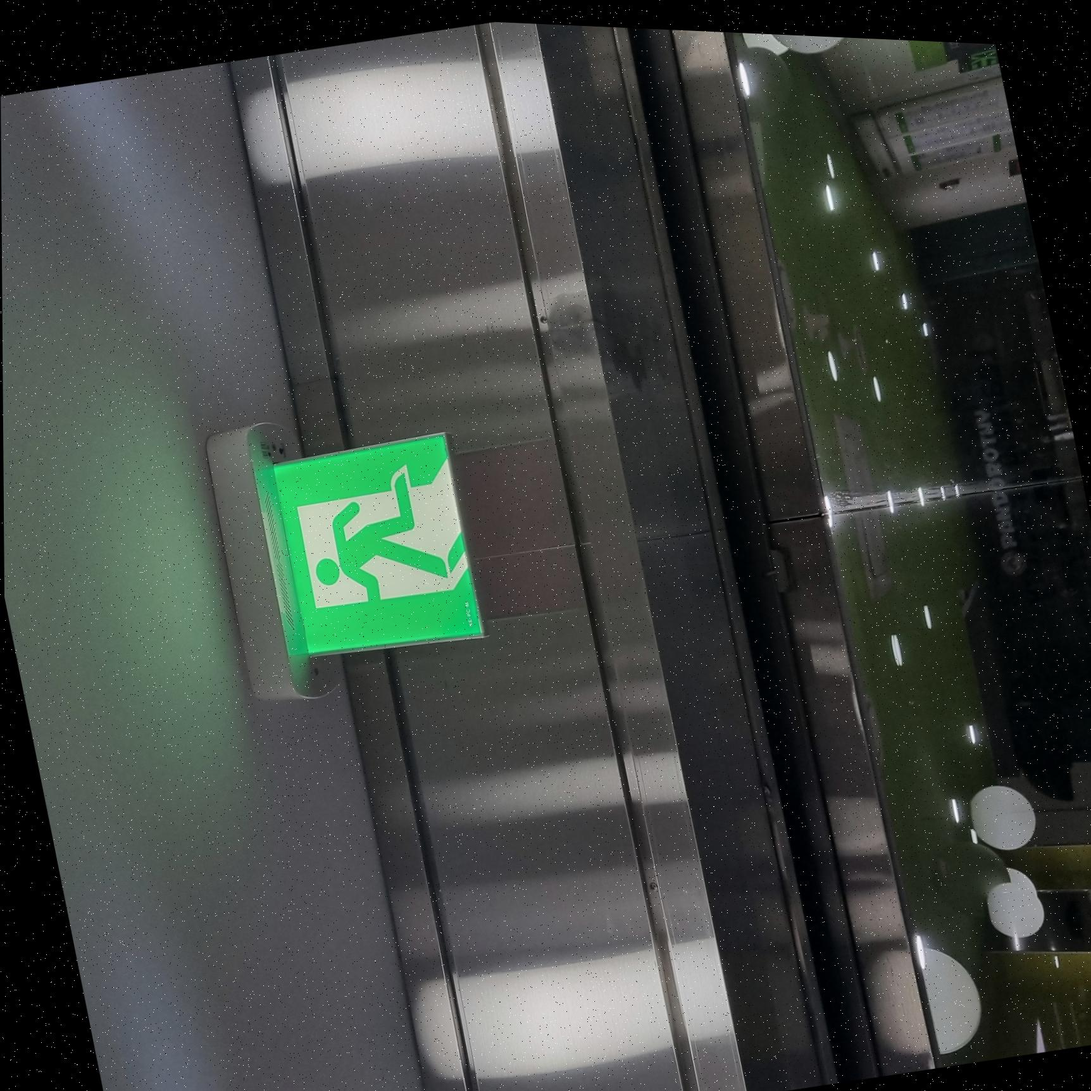emergency_exit: (257, 426, 487, 674)
